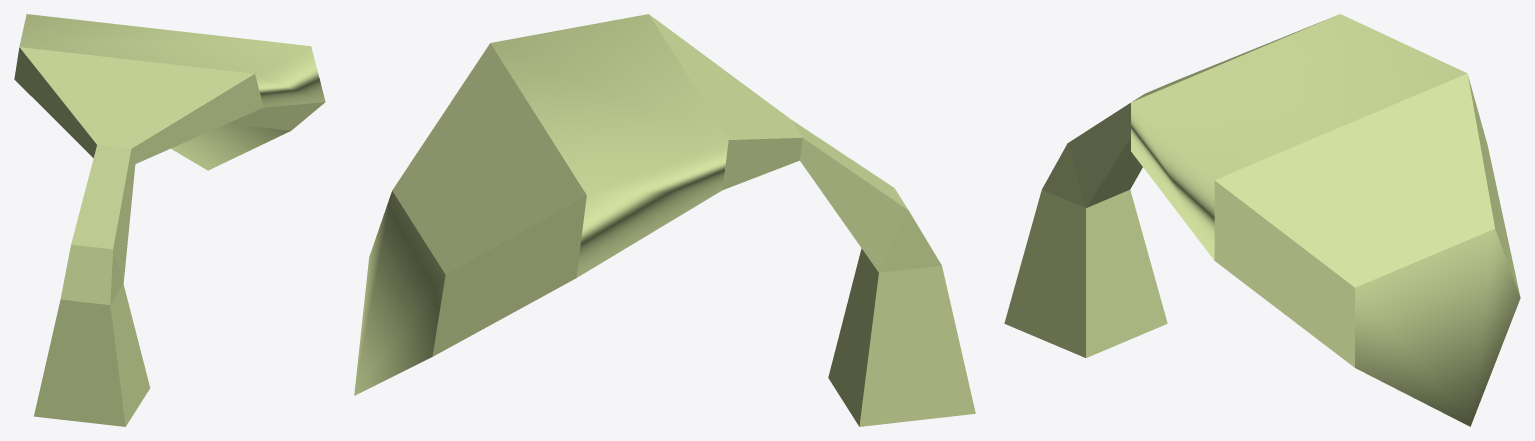
File: Grass3.fbx
3 renders of one model, left to right at view 1: azimuth 30°, elevation 25°; view 2: azimuth 150°, elevation 25°; view 3: azimuth 270°, elevation 25°, orthographic. The views are drawn at different scales.
Parts seen in each view (by area): view 1: Grass3; view 2: Grass3; view 3: Grass3.
Boxes of the visible parts, x1,y1,x2,y2 form: Grass3: (14,14,325,426); Grass3: (354,14,975,426); Grass3: (1004,14,1520,426).
Size of the model in its own units: 1.78 by 1.25 by 1.78.
